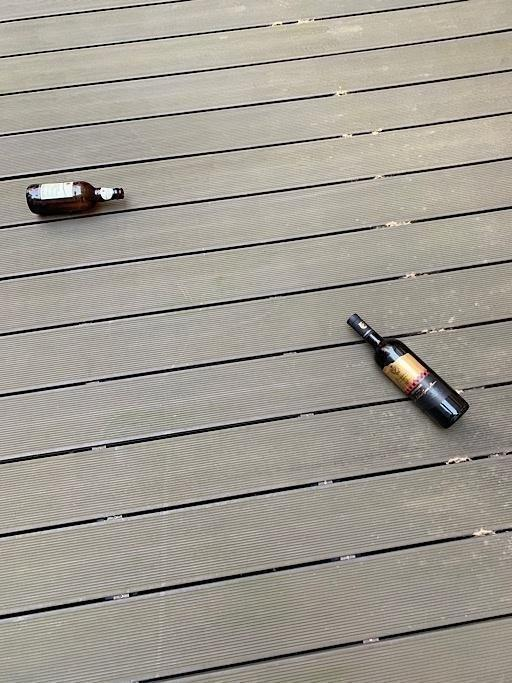bottle-glass: (347, 313, 469, 429), (24, 176, 128, 218)
